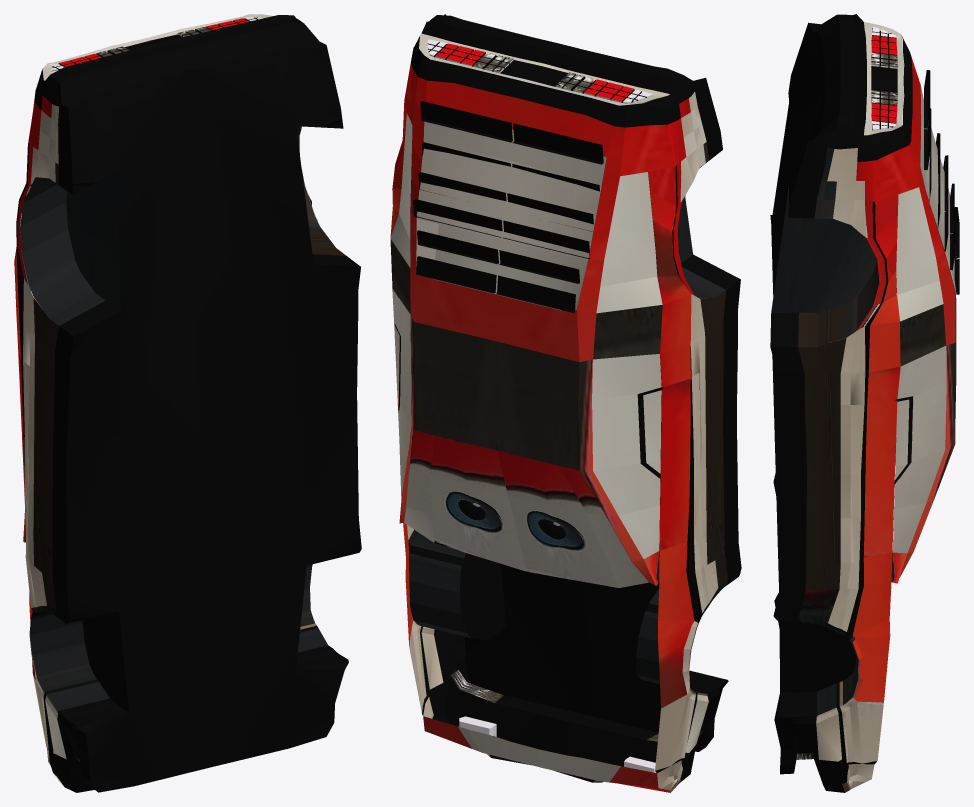
File: delorean_texturizado.dae
3 views of the same model, side by side, from view 1: azimuth 30°, elevation 25°; view 2: azimuth 150°, elevation 25°; view 3: azimuth 270°, elevation 25° (orthographic). The views are drawn at different scales.
Parts seen in each view (by area): view 1: Кузов; view 2: Кузов; view 3: Кузов.
Part boxes in pixels (left/top/right/bottom): Кузов: left=14, top=14, right=361, bottom=792; Кузов: left=390, top=14, right=741, bottom=792; Кузов: left=770, top=14, right=959, bottom=792.
Size of the model in its own units: 2.48 by 1.46 by 5.75.
